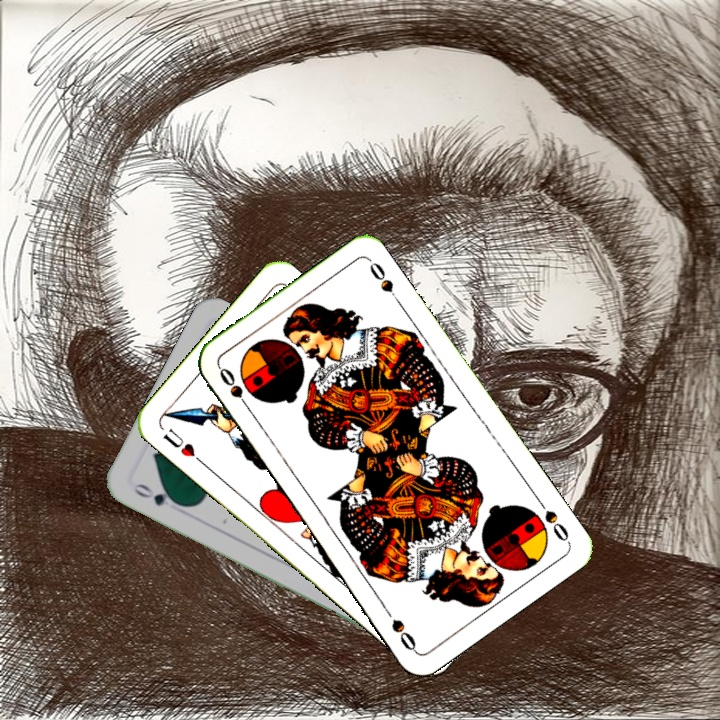GO: (129, 479, 185, 509)
HU: (159, 424, 206, 467)
SO: (532, 494, 572, 545), (215, 363, 254, 415)
